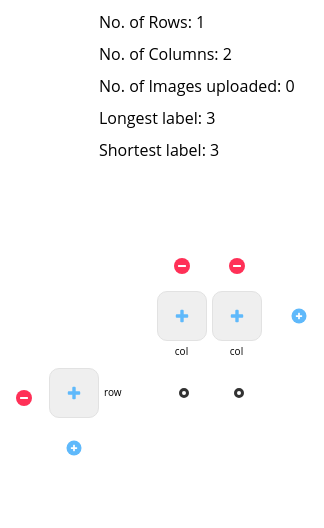
Test case: RadioMatrix › Add a row
Expected: the text "row" is shown once, 104,385 -> 122,399
Click the button with test id "add-row": (74, 448) 49,423 -> 99,473
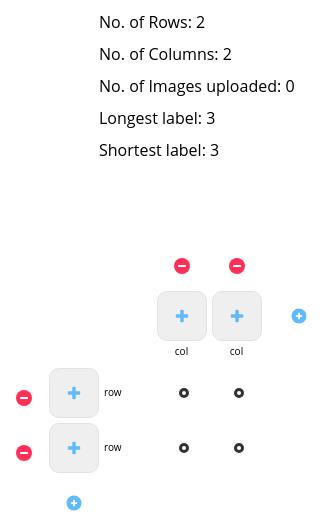
Result: the text "row" is shown 2 times at 104,385 -> 122,399; 104,440 -> 122,454
